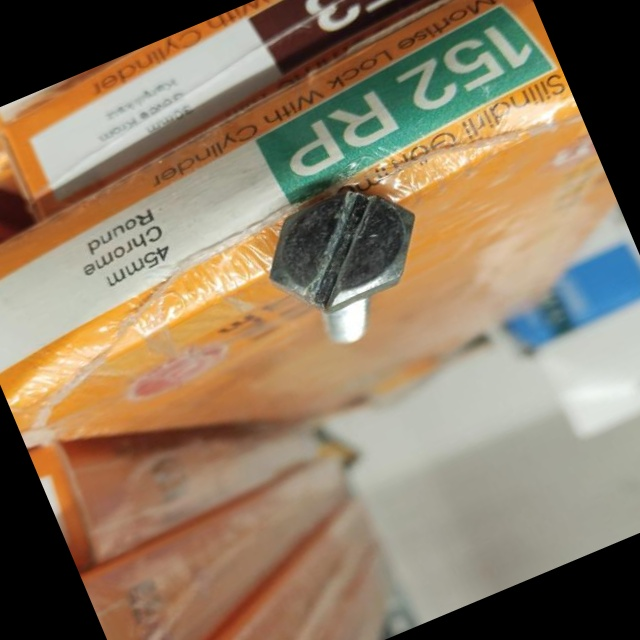duz: (247, 167, 439, 332)
